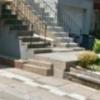stairs: (0, 0, 81, 56)
